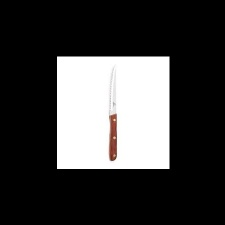k1: (106, 64, 119, 122)
